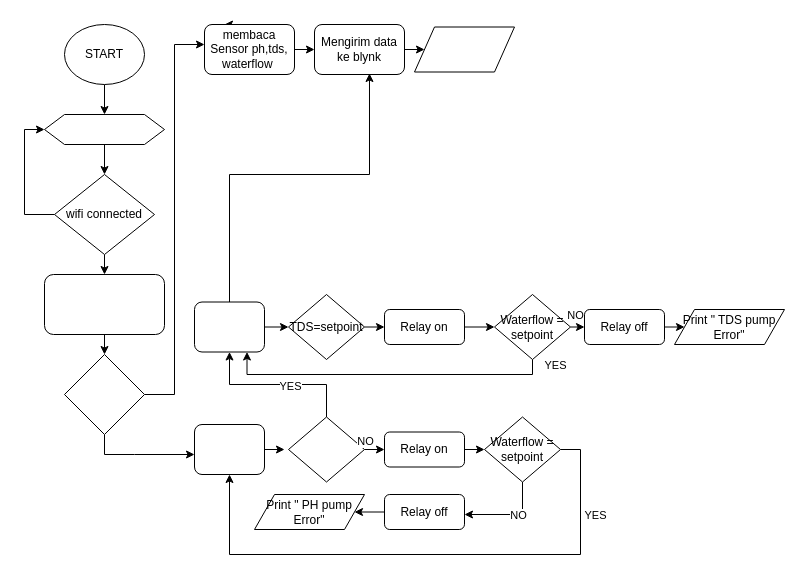
The diagram is 802 pixels wide and 580 high, and some of its shapes have lost their labels. Here are the shapes that lost their labels. From the top down, the box of each, then its label:
(414, 26, 514, 72): menampilkan data
(44, 114, 164, 144): Connect Wifi
(44, 274, 164, 334): Mengambil data set point ph, tds, waterflow di database
(194, 301, 264, 352): membaca sensor TDS
(64, 354, 144, 434): Set point
(194, 424, 264, 474): membaca sensor ph
(288, 416, 364, 482): ph=setpoint
